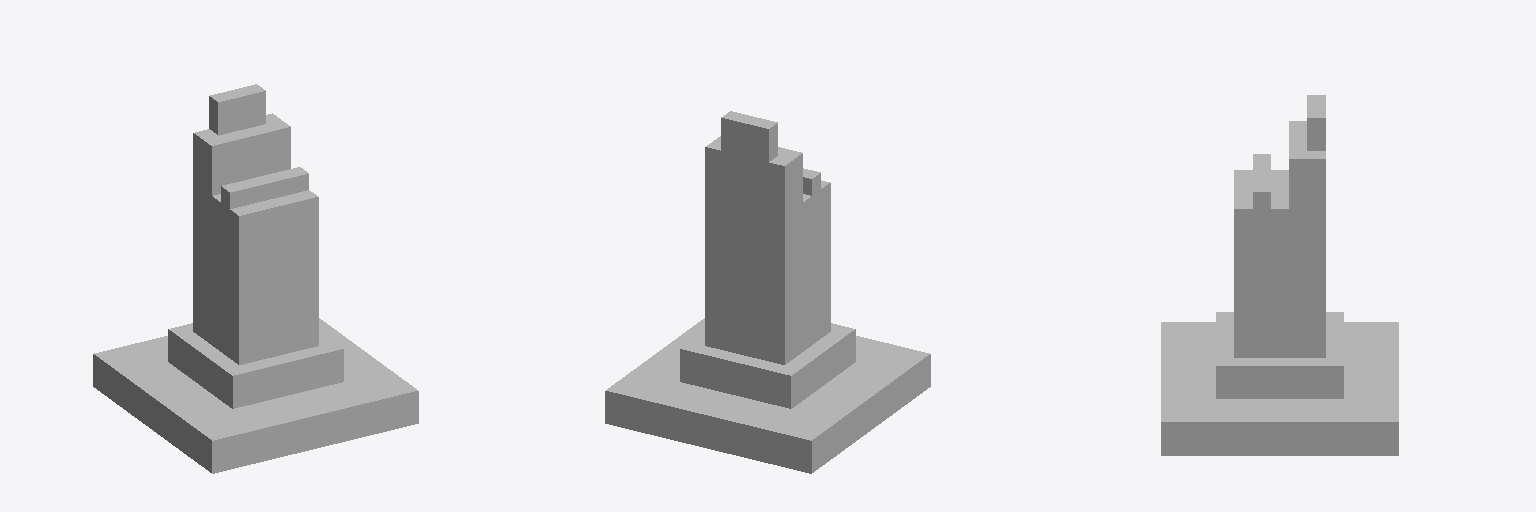
The model's file is bishop.obj.
3 views of the same model, side by side, from view 1: azimuth 30°, elevation 25°; view 2: azimuth 150°, elevation 25°; view 3: azimuth 270°, elevation 25° (orthographic).
Visible parts, largest first — view 1: bishop; view 2: bishop; view 3: bishop.
Boxes of the visible parts, box(x1,y1,x2,y2) form: bishop: box(93, 84, 418, 473); bishop: box(605, 111, 930, 473); bishop: box(1161, 95, 1398, 455).
Size of the model in its own units: 13 by 18 by 13.